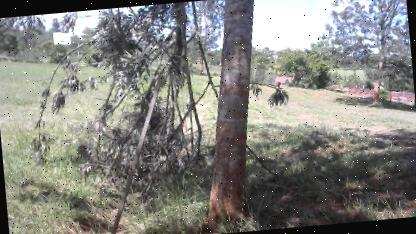tree: (178, 0, 278, 232), (319, 0, 415, 113)
